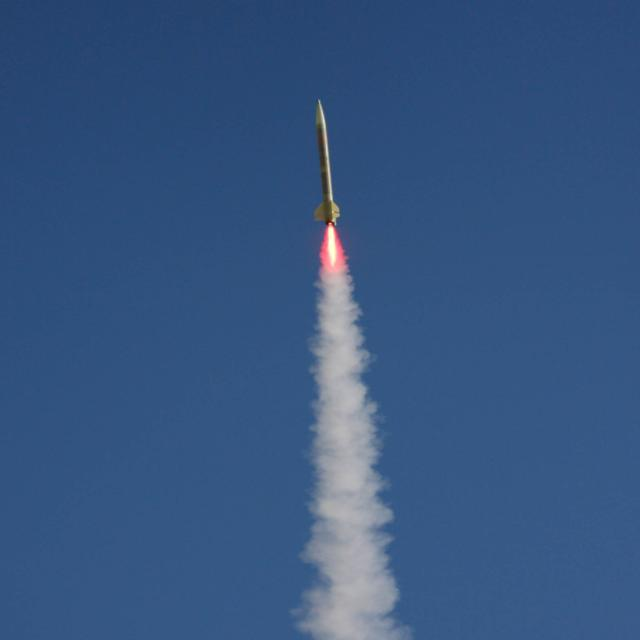Rocket: (313, 99, 341, 226)
